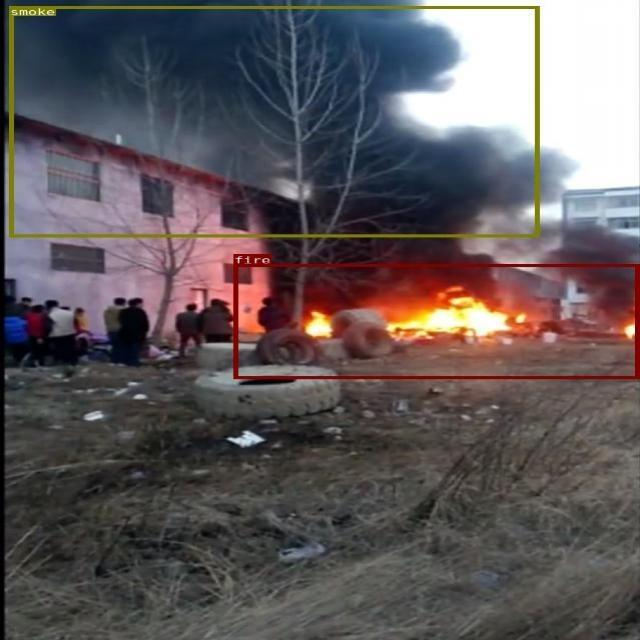fire: (233, 263, 638, 378)
smoke: (8, 6, 539, 237)
